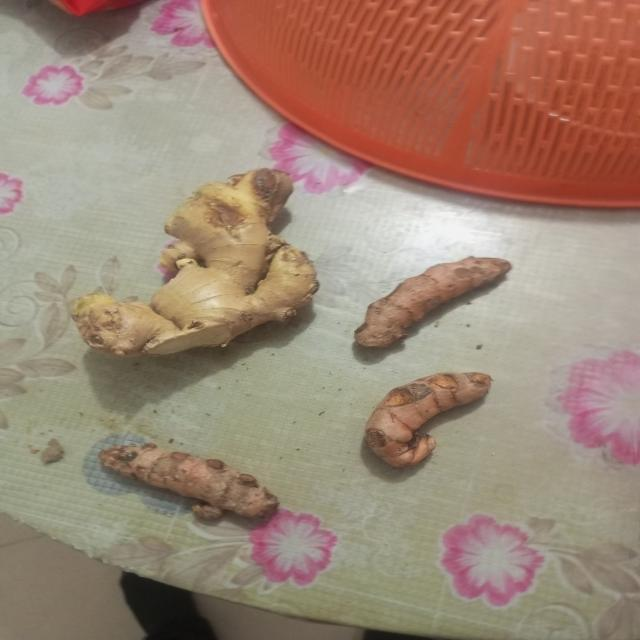ginger: (82, 175, 312, 354), (357, 256, 507, 354), (102, 443, 278, 522), (367, 369, 495, 466)
